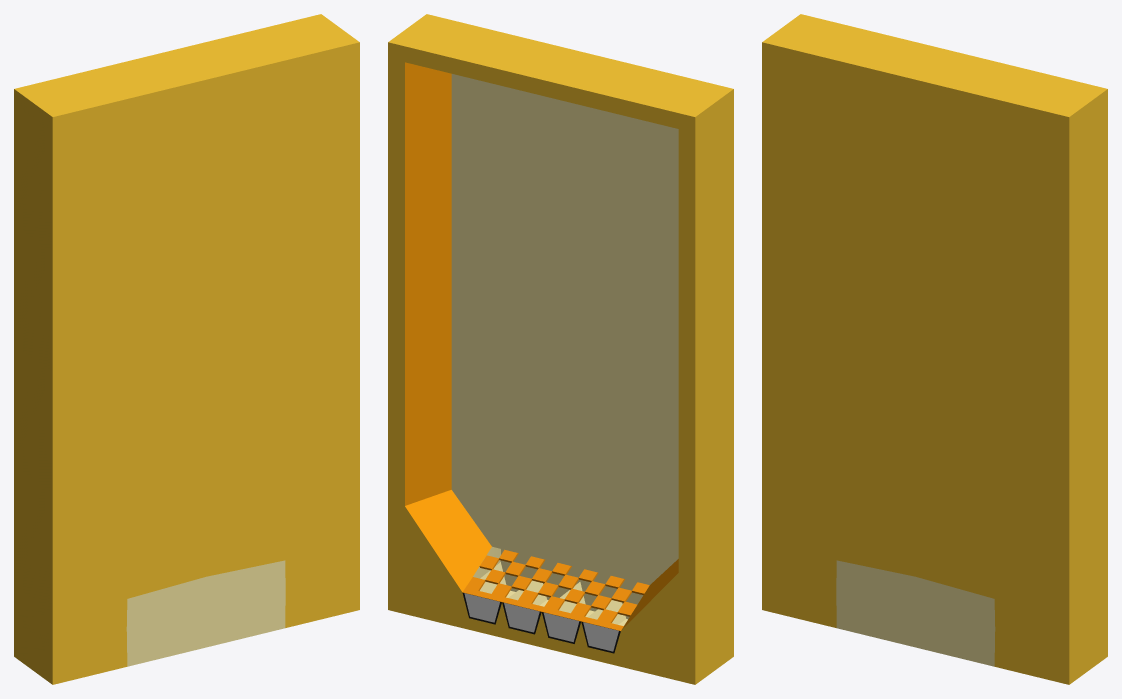
File: last_bg_bonus.fbx
3 views of the same model, side by side, from view 1: azimuth 30°, elevation 25°; view 2: azimuth 150°, elevation 25°; view 3: azimuth 330°, elevation 25° (orthographic).
Visible parts, largest first — view 1: background_green.003; view 2: background_green.003, grille.green.003; view 3: background_green.003.
Part boxes in pixels (x1,y1,x2,y2): background_green.003: [14, 14, 359, 684]; background_green.003: [388, 14, 733, 684]; grille.green.003: [462, 549, 649, 631]; background_green.003: [762, 14, 1107, 684].
Size of the model in its own units: 9.06 by 16 by 1.97.
